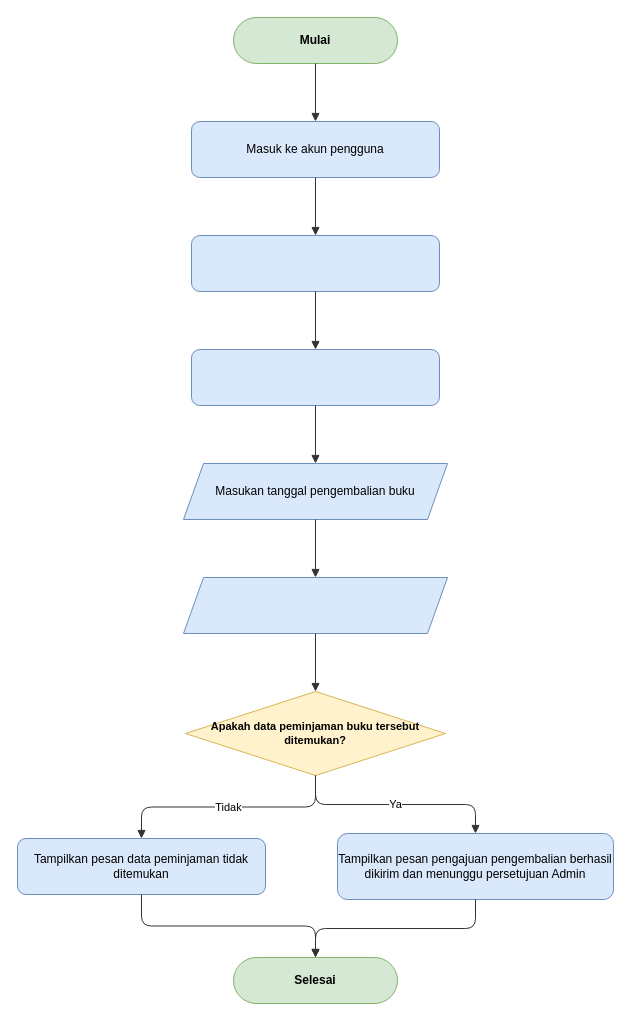
Image size: 631x1021. Some labels were removed from this diagram. The shapes that lost their labels are listed below. From the top down, each one's box as (x1, y1, x2, y2) in pixels, then its label:
(190, 234, 440, 292): Buka menu daftar peminjaman aktif
(190, 348, 440, 406): Pilih buku yang ingin dikembalikan
(182, 576, 448, 634): Klik tombol ajukan pengembalian
